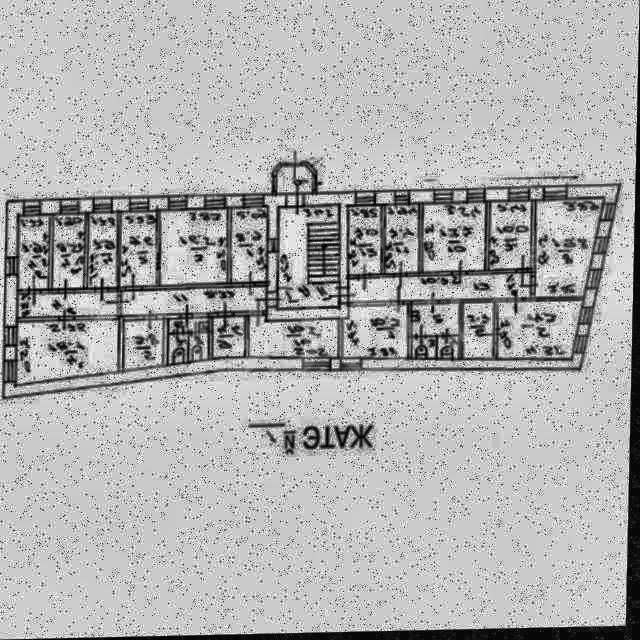room: (15, 320, 122, 387), (536, 201, 606, 300), (279, 206, 339, 312), (161, 210, 228, 288), (350, 276, 532, 304), (499, 304, 584, 362), (424, 205, 486, 276), (123, 288, 267, 316), (250, 317, 340, 360), (344, 307, 409, 360), (490, 203, 532, 273), (121, 213, 157, 288), (233, 208, 267, 285), (18, 293, 119, 318), (53, 215, 86, 290), (386, 207, 419, 277), (20, 216, 50, 291), (350, 208, 382, 277), (89, 213, 118, 289), (125, 319, 165, 373), (465, 305, 496, 362), (413, 306, 461, 338), (214, 317, 247, 359), (278, 168, 313, 195), (169, 335, 189, 367), (170, 319, 210, 334), (190, 335, 210, 363), (413, 340, 437, 361), (439, 339, 461, 361)
